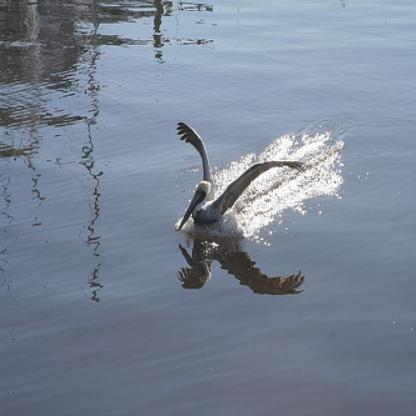bird: (174, 120, 305, 231)
